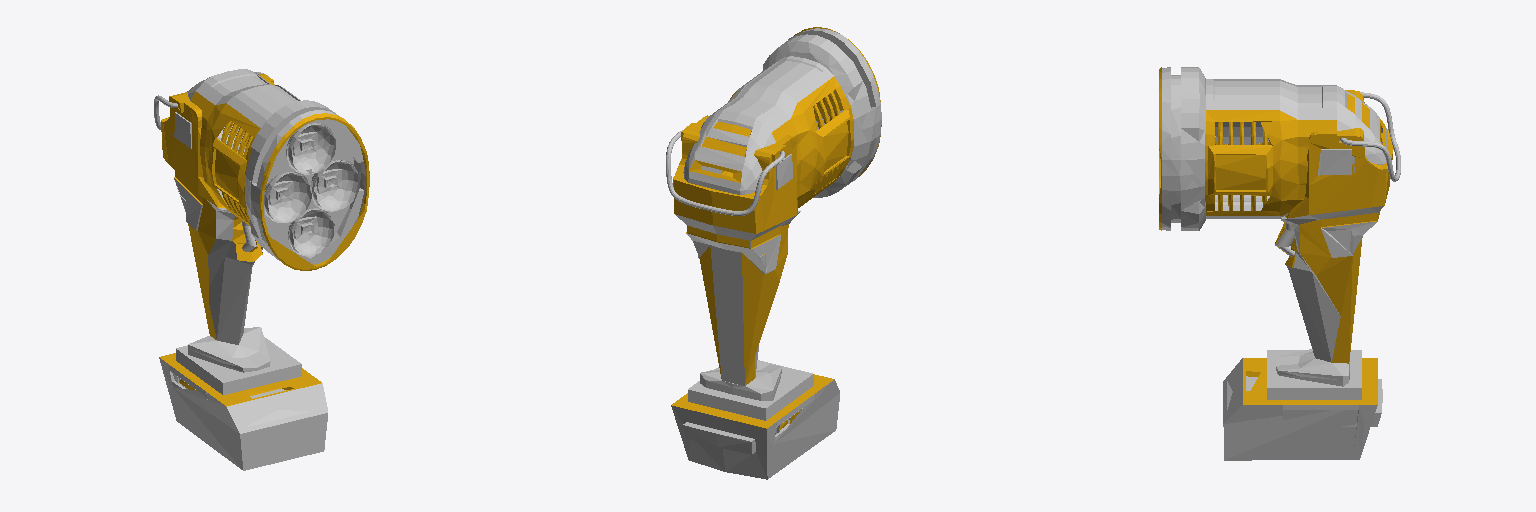
The picture shows the model from 3 angles: view 1: azimuth 30°, elevation 25°; view 2: azimuth 150°, elevation 25°; view 3: azimuth 270°, elevation 25°; orthographic projection.
Visible parts, largest first — view 1: Куб_Куб.001; view 2: Куб_Куб.001, ТраекторияNurbs; view 3: Куб_Куб.001, ТраекторияNurbs.
Part boxes in pixels (x1,y1,x2,y2): Куб_Куб.001: (159,69,369,470); Куб_Куб.001: (671,27,881,479); ТраекторияNurbs: (666,130,784,215); Куб_Куб.001: (1159,67,1393,460); ТраекторияNurbs: (1340,92,1400,181).
Bounding box in the file's own units: 1.49 × 4.74 × 2.82.
6 materials, 1 textured.